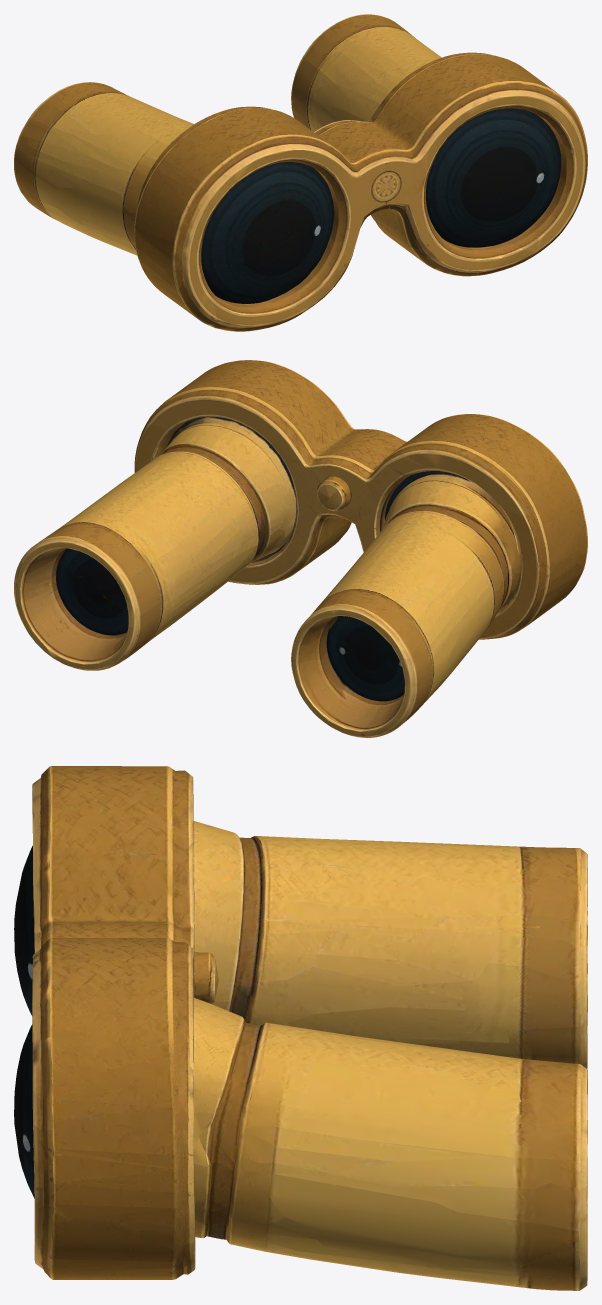
File: binocular_specs.glb
The picture shows the model from 3 angles, top to bottom: view 1: azimuth 30°, elevation 25°; view 2: azimuth 150°, elevation 25°; view 3: azimuth 270°, elevation 25°; orthographic projection. The views are drawn at different scales.
Parts seen in each view (by area): view 1: Mesh_0; view 2: Mesh_0; view 3: Mesh_0.
Boxes of the visible parts, x1=… form: Mesh_0: x1=14, y1=14, x2=587, y2=331; Mesh_0: x1=14, y1=360, x2=587, y2=737; Mesh_0: x1=14, y1=766, x2=587, y2=1290.
Size of the model in its own units: 1 by 0.4412 by 0.7533.
Materials: 1 (1 with a texture image).
